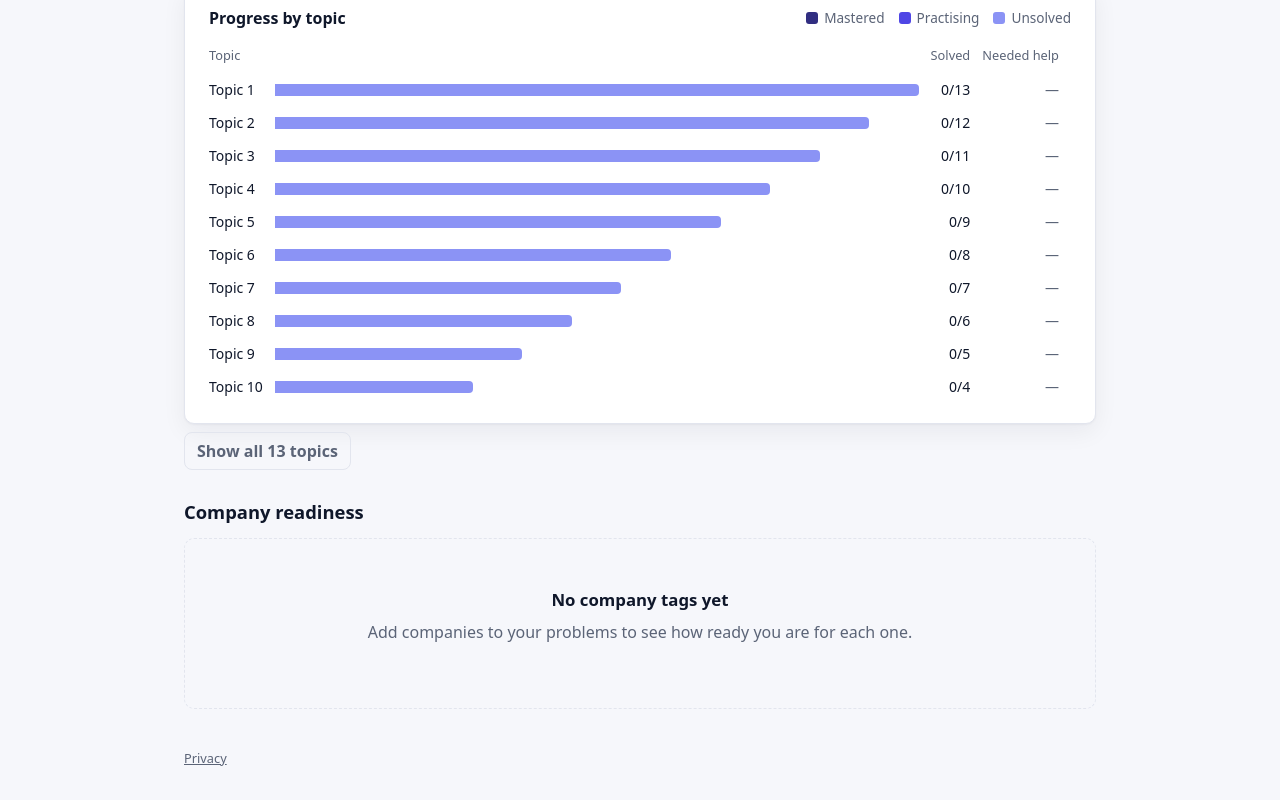
Test: analytics › shows the first 10 topics, with a button for the rest
The image size is (1280, 800).
(page scrolled)
expect the link "Topic 10" is shown: met, box [209,377,263,396]
expect the link "Topic 11" is not shown: met
Click the button "Show all 13 topics" at (267, 451), box [184,432,351,470]
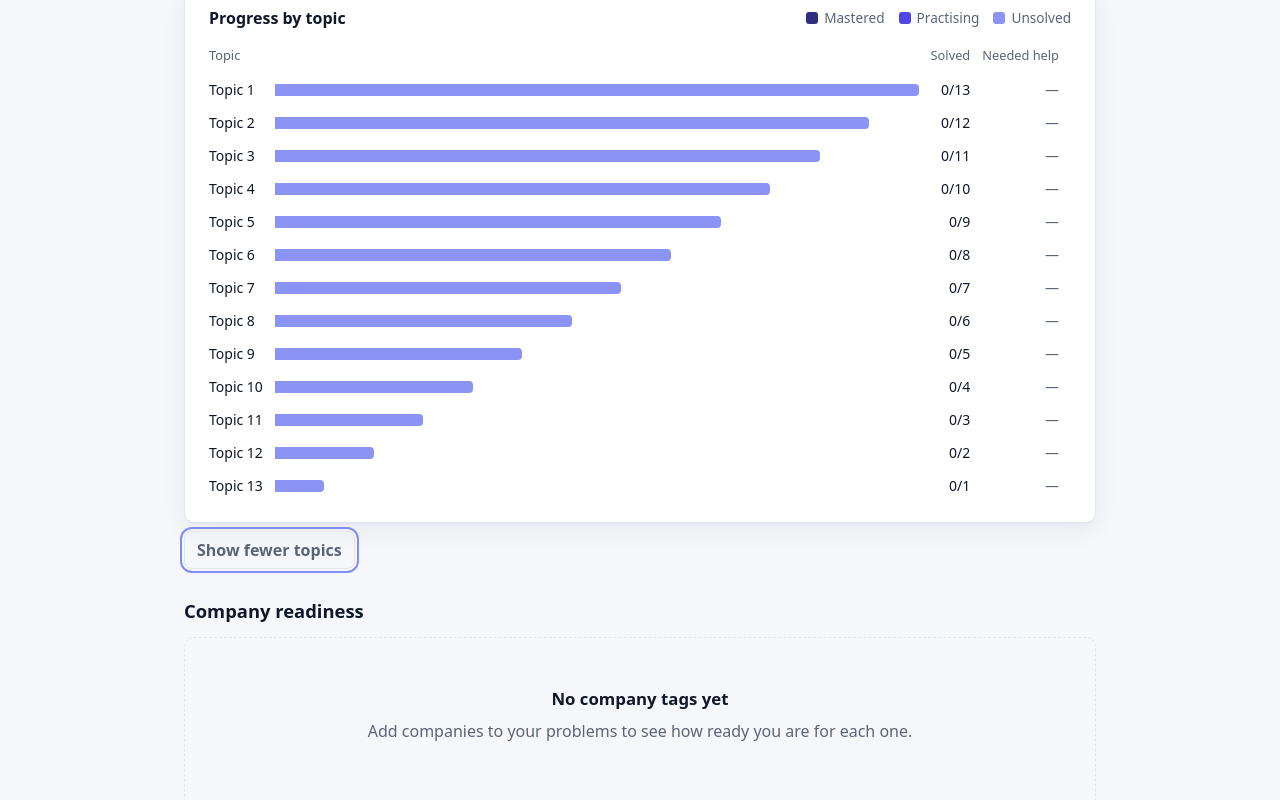
expect the link "Topic 13" is shown: met, box [209,476,263,495]
